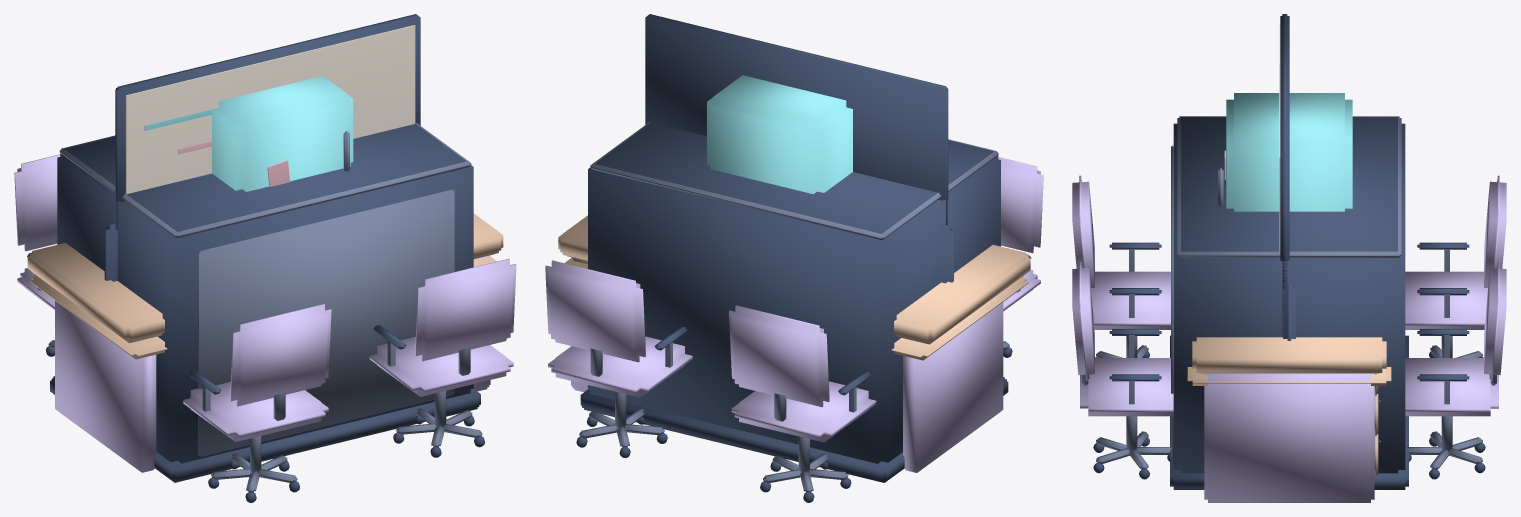
Rendered from deskkit.glb.
3 renders of one model, left to right at view 1: azimuth 30°, elevation 25°; view 2: azimuth 150°, elevation 25°; view 3: azimuth 270°, elevation 25°, orthographic. The views are drawn at different scales.
Parts seen in each view (by area): view 1: vault_body, meeting_table, whiteboard, desk, fridge, monitor; view 2: vault_body, meeting_table, whiteboard, desk, fridge, monitor; view 3: vault_body, meeting_table, desk, fridge, whiteboard, monitor.
Boxes of the visible parts, x1=… form: vault_body: x1=50, y1=123, x2=480, y2=482; meeting_table: x1=14, y1=154, x2=516, y2=502; whiteboard: x1=115, y1=14, x2=420, y2=230; desk: x1=27, y1=213, x2=503, y2=472; fridge: x1=212, y1=76, x2=353, y2=191; monitor: x1=104, y1=223, x2=117, y2=281; vault_body: x1=580, y1=122, x2=1008, y2=482; meeting_table: x1=545, y1=157, x2=1043, y2=502; whiteboard: x1=645, y1=14, x2=948, y2=225; desk: x1=558, y1=215, x2=1030, y2=472; fridge: x1=707, y1=75, x2=852, y2=194; monitor: x1=941, y1=225, x2=953, y2=283; vault_body: x1=1170, y1=116, x2=1408, y2=489; meeting_table: x1=1072, y1=175, x2=1506, y2=479; desk: x1=1192, y1=337, x2=1386, y2=502; fridge: x1=1218, y1=93, x2=1352, y2=211; whiteboard: x1=1279, y1=14, x2=1289, y2=336; monitor: x1=1283, y1=285, x2=1295, y2=340.
Bounding box in the file's own units: 2.25 × 2.25 × 2.34.
